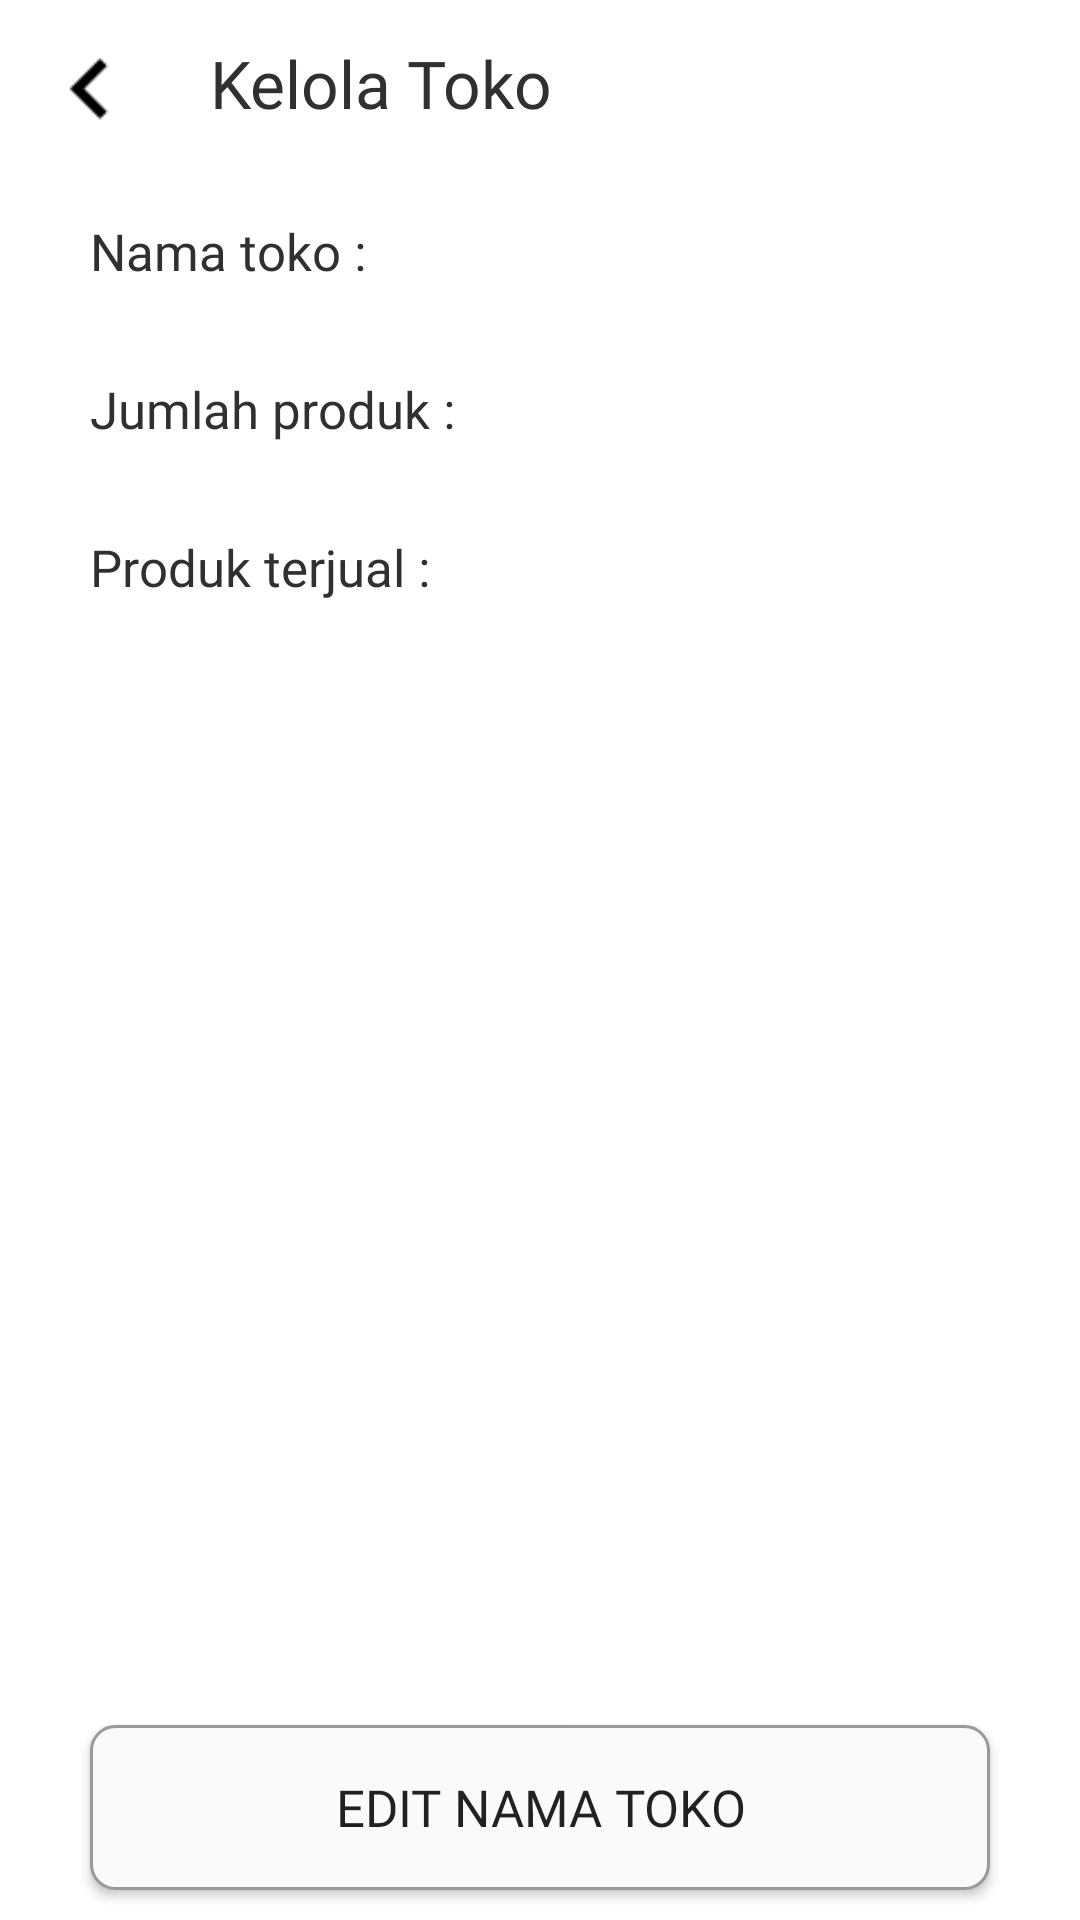

Named icons in this screenshot (1080 x 1920) and their centers, point (x, y):
arrow left: point (88, 89)
